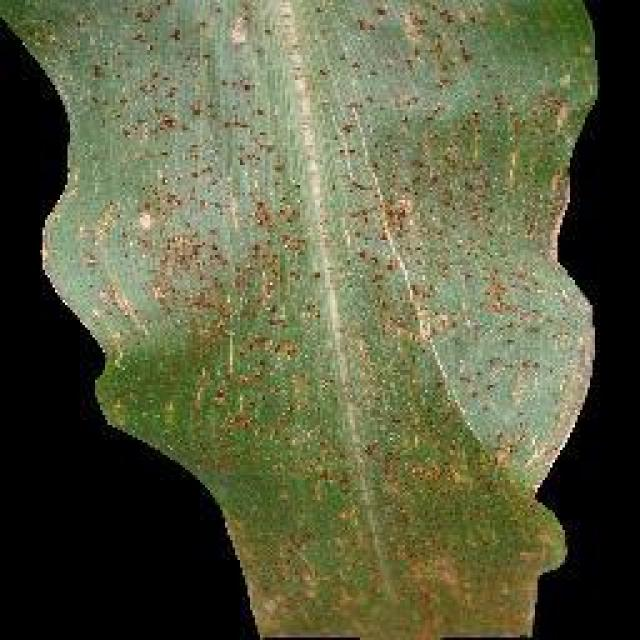Corn Common Rust: (125, 50, 525, 537)
